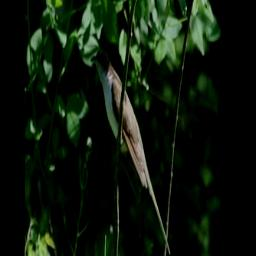Cuckoo: (91, 46, 172, 256)
